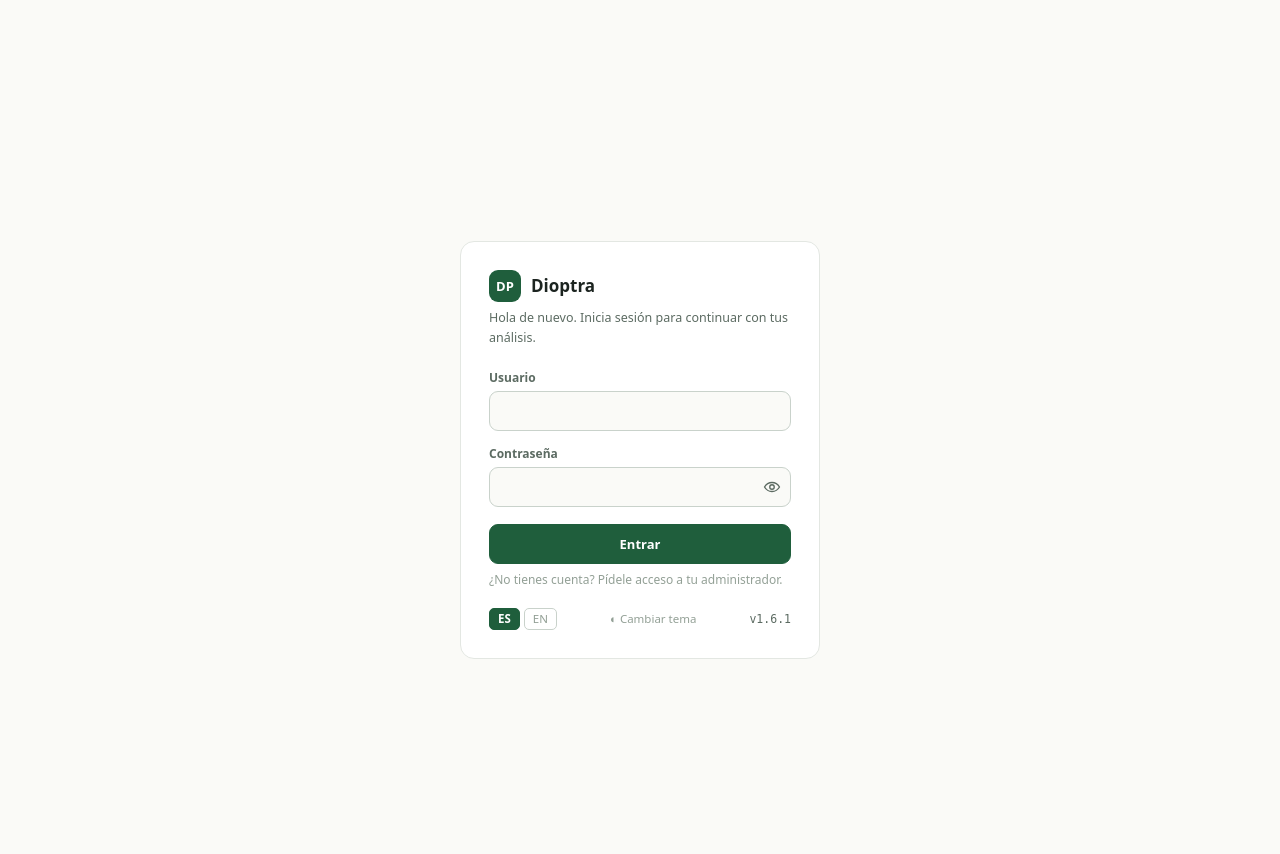
case design screen › shows what is still uncovered and the server refusal, and reopens after an edit
Type "cperez" into the field labelled "Usuario". click: (640, 411)
box: [489,391,791,431]
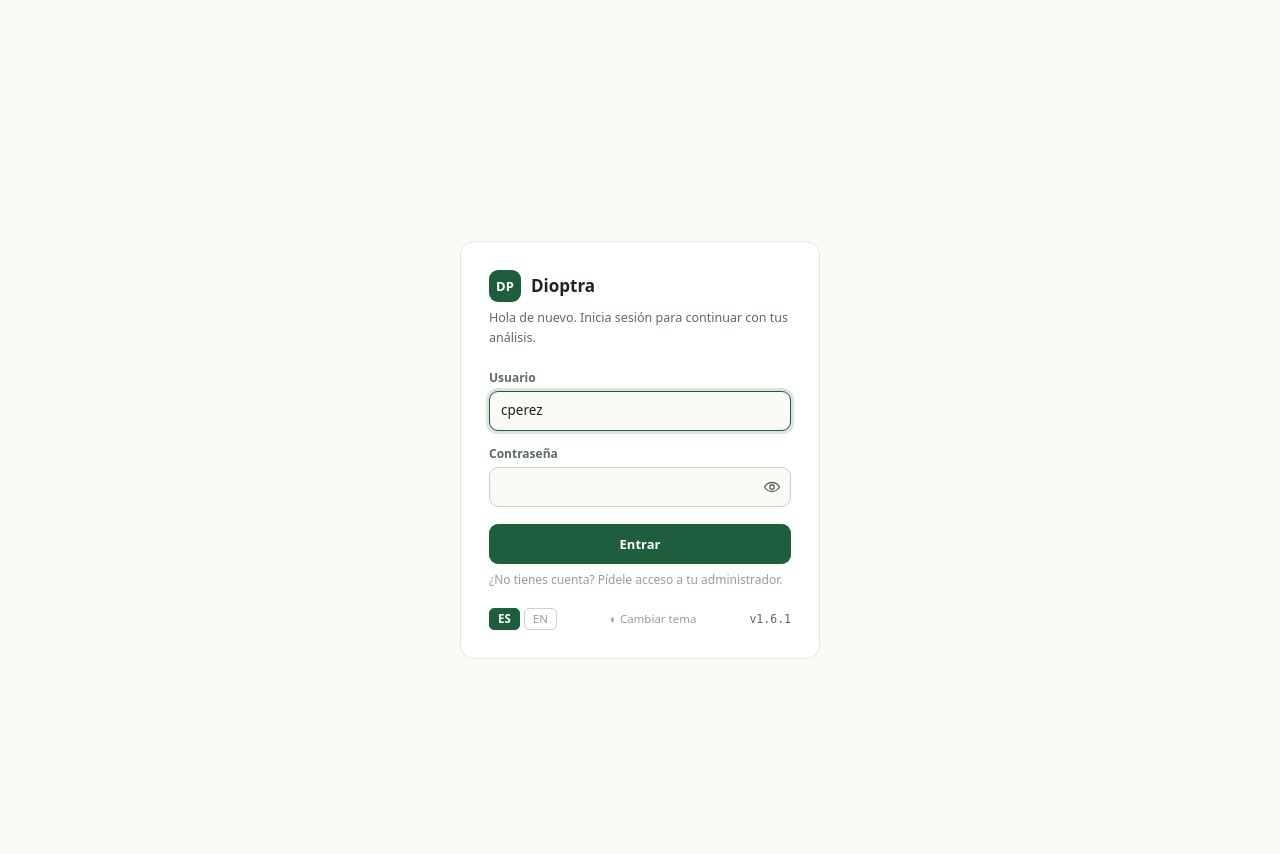
Type "correct-horse-battery-staple" into the password field labelled "Contraseña". click: (640, 487)
box: [489,467,791,507]
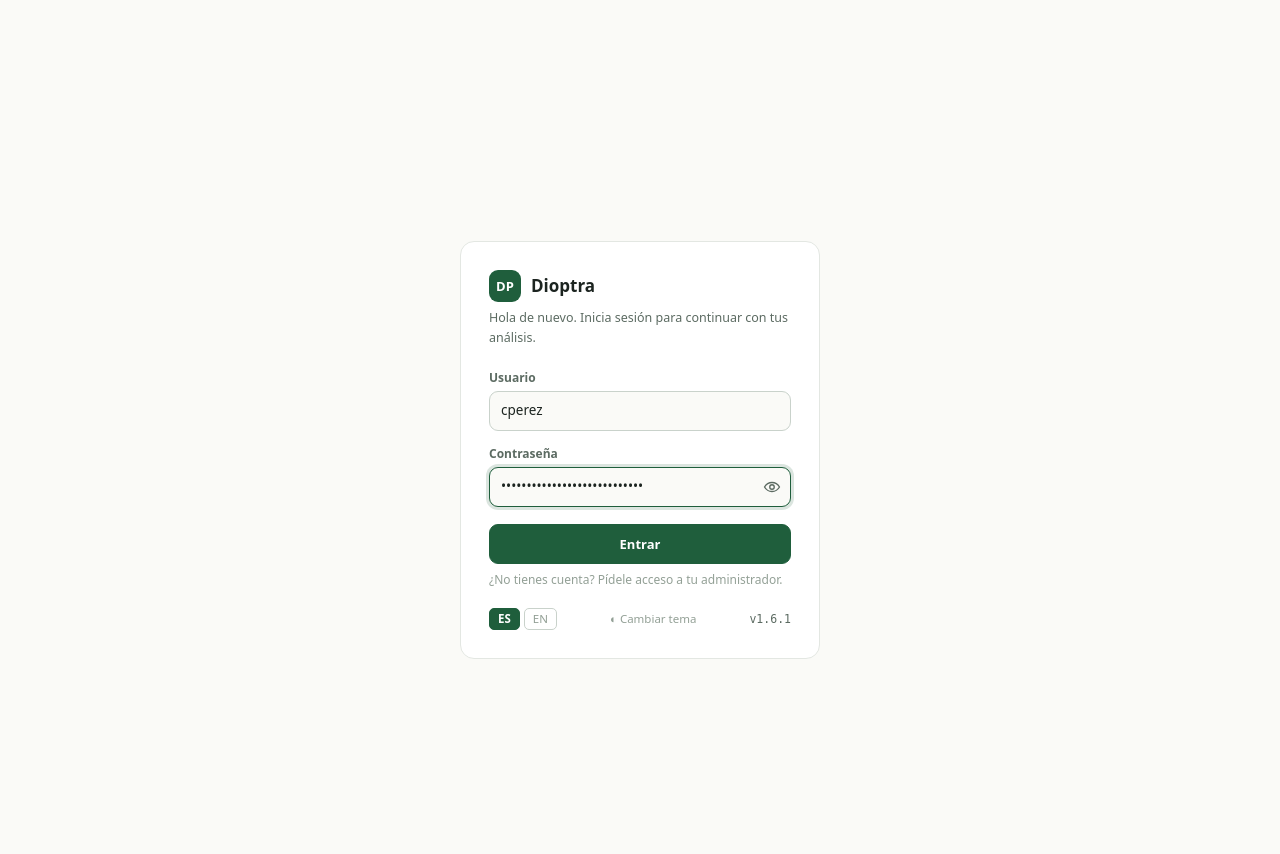
Click the button "Entrar". click: (640, 544)
box: [489,524,791,564]
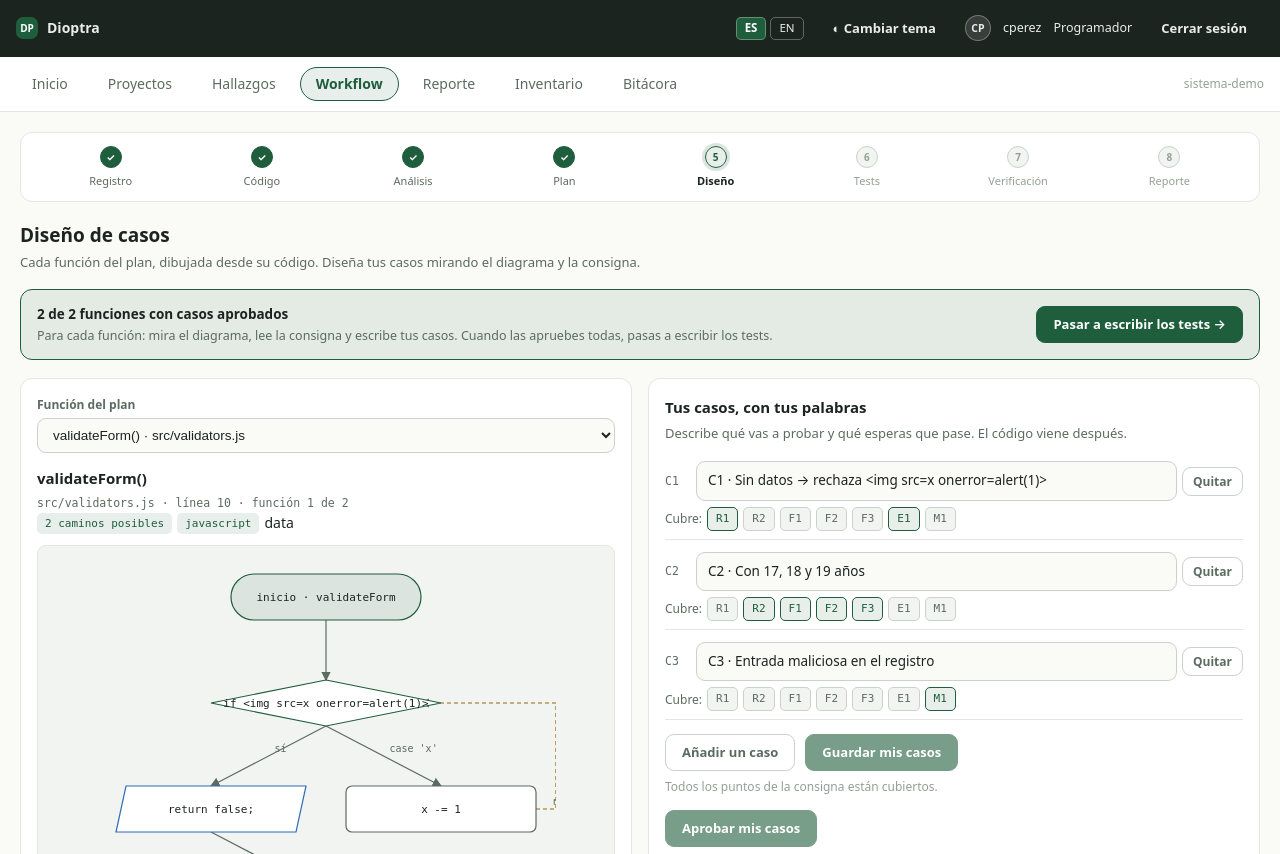
Check: the button "Pasar a escribir los tests →" is enabled, box [1036,306,1243,343]
Click the 3rd button "M1". click: (940, 699)
box: [925,687,956,711]
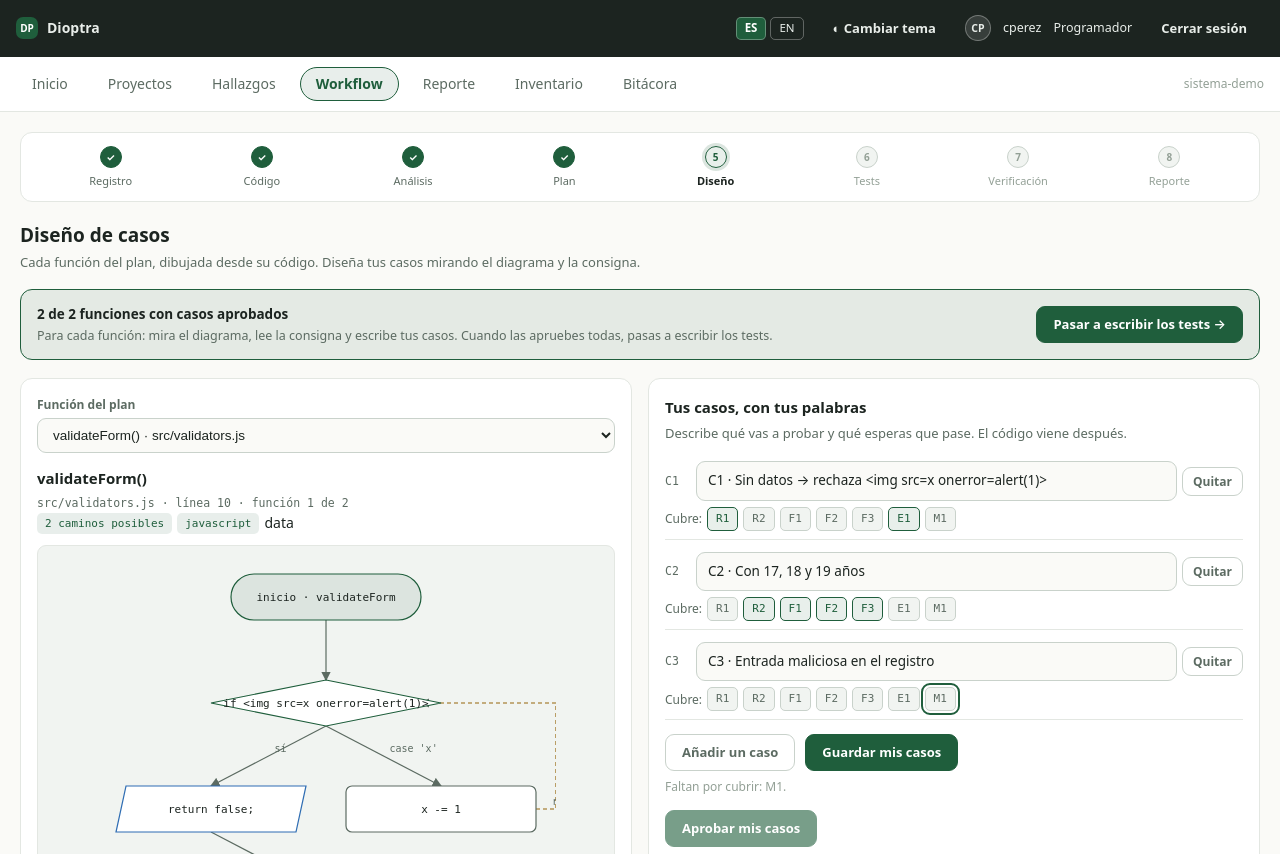
Click the button "Guardar mis casos". click: (882, 752)
box: [805,734,958,771]
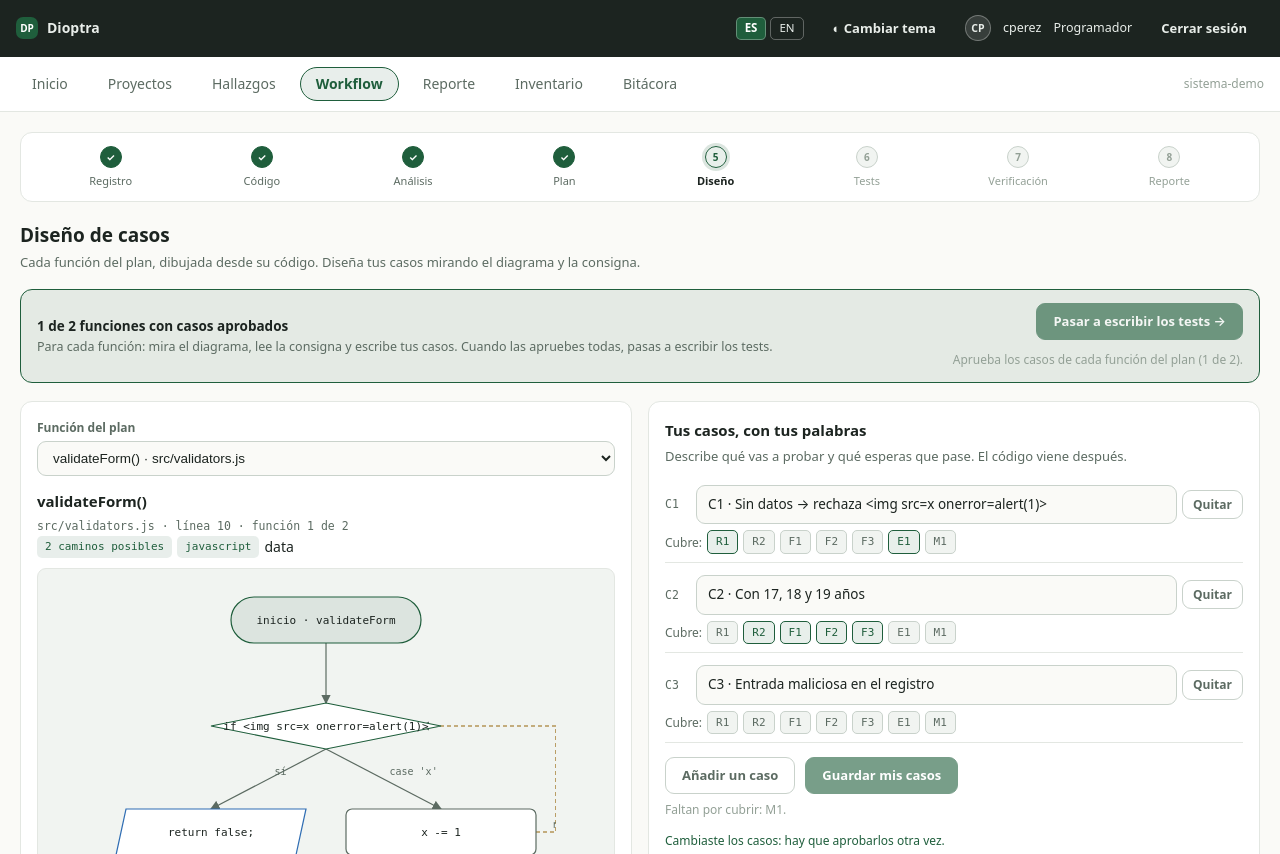
Check: the text "Cambiaste los casos: hay que aprobarlos otra vez." is shown, box [665,832,945,849]
Check: the button "Pasar a escribir los tests →" is disabled, box [1036,303,1243,340]
